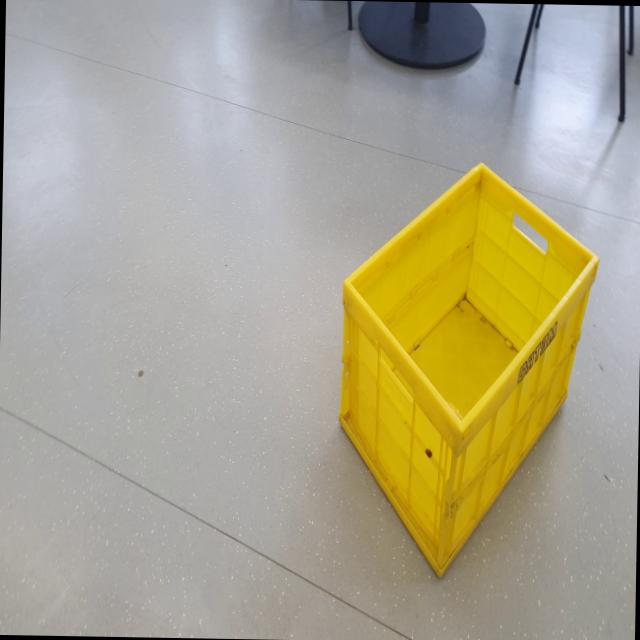box: (332, 154, 602, 588)
